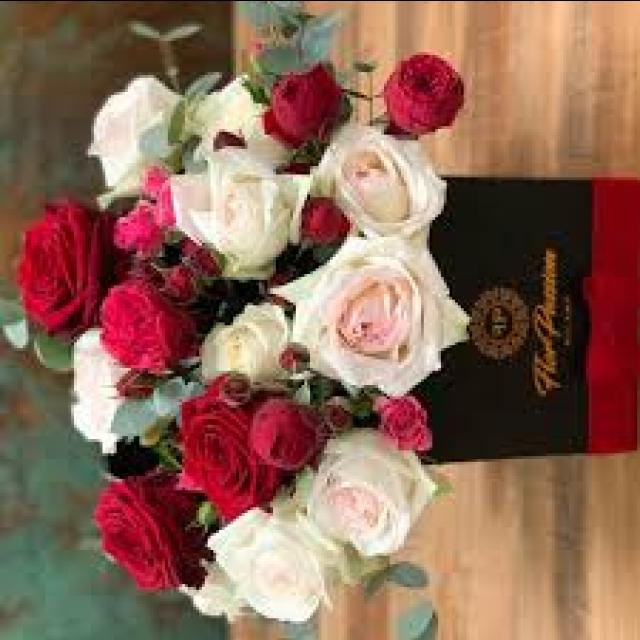rose: (161, 378, 293, 513), (192, 145, 316, 287)
